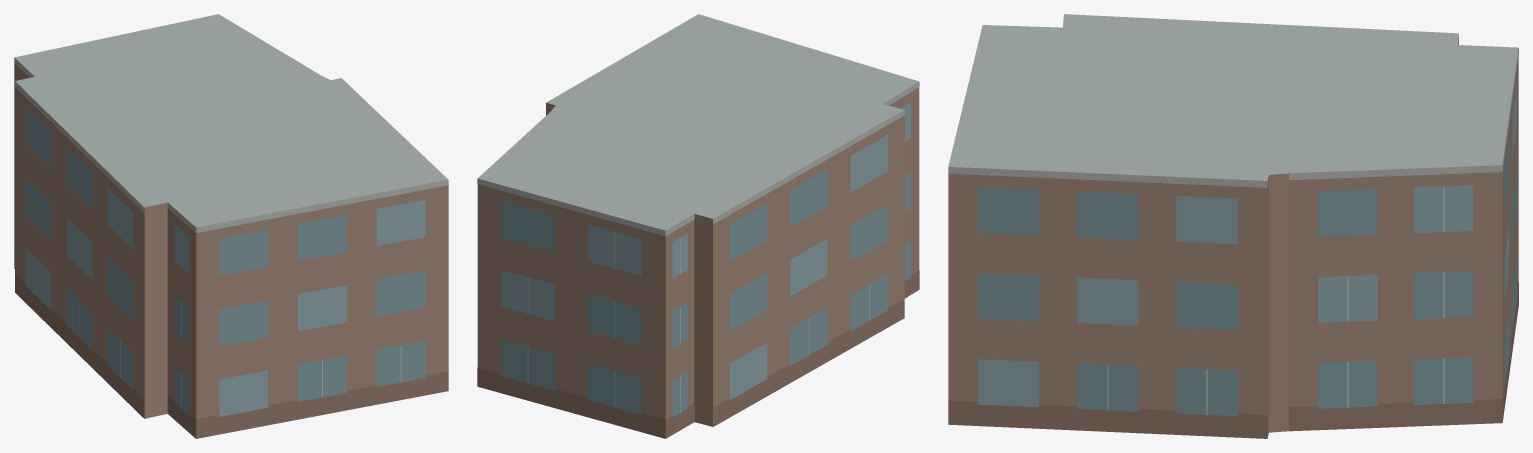
The model's file is survey-upis-32929023.glb.
3 renders of one model, left to right at view 1: azimuth 30°, elevation 25°; view 2: azimuth 150°, elevation 25°; view 3: azimuth 270°, elevation 25°, orthographic. The views are drawn at different scales.
Visible parts, largest first — view 1: survey-upis-32929023.tmp; view 2: survey-upis-32929023.tmp; view 3: survey-upis-32929023.tmp.
Part boxes in pixels (box(x1,y1,x2,y2)): survey-upis-32929023.tmp: box(14, 14, 448, 438); survey-upis-32929023.tmp: box(477, 14, 919, 438); survey-upis-32929023.tmp: box(948, 14, 1518, 438).
Bounding box in the file's own units: 12.72 × 9.15 × 18.36.
